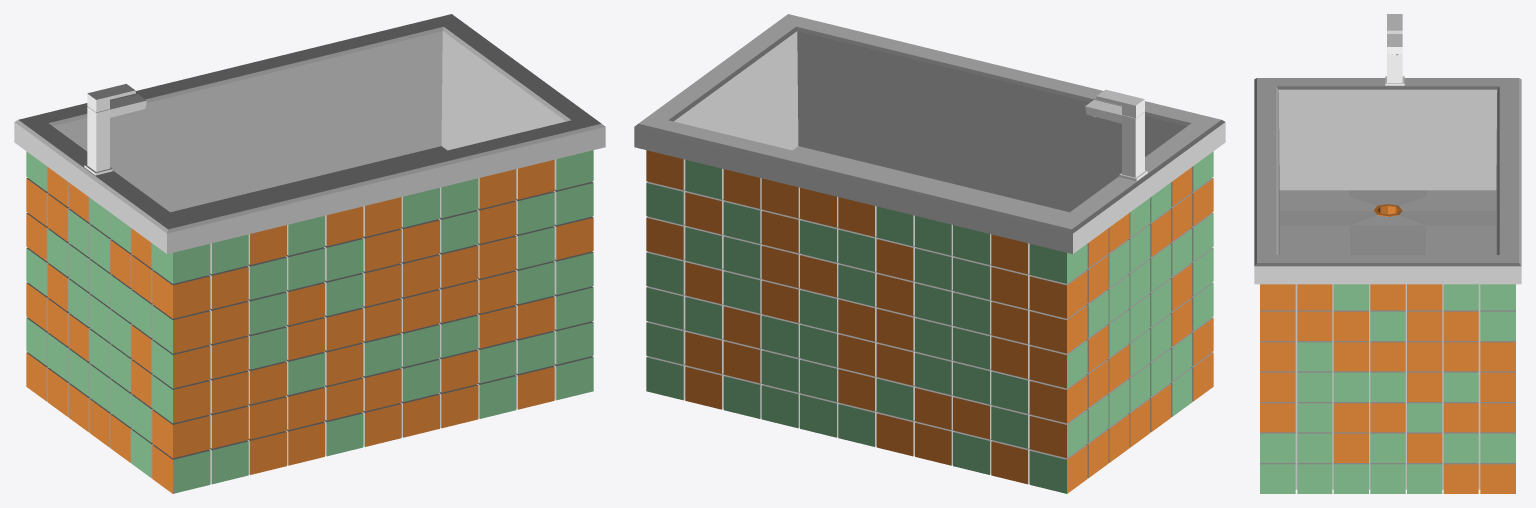
Rendered from Bathtub 1.fbx.
The picture shows the model from 3 angles, left to right: view 1: azimuth 30°, elevation 25°; view 2: azimuth 150°, elevation 25°; view 3: azimuth 270°, elevation 25°; orthographic projection. The views are drawn at different scales.
Parts seen in each view (by area): view 1: Node 0, Node 1; view 2: Node 0, Node 1; view 3: Node 0, Node 1.
Boxes of the visible parts, x1,y1,x2,y2 form: Node 0: (14, 14, 605, 493); Node 1: (87, 84, 135, 112); Node 0: (634, 14, 1225, 493); Node 1: (1096, 89, 1144, 118); Node 0: (1254, 34, 1521, 493); Node 1: (1387, 14, 1402, 33).
Bounding box in the file's own units: 0.9183 × 1.13 × 1.52.
